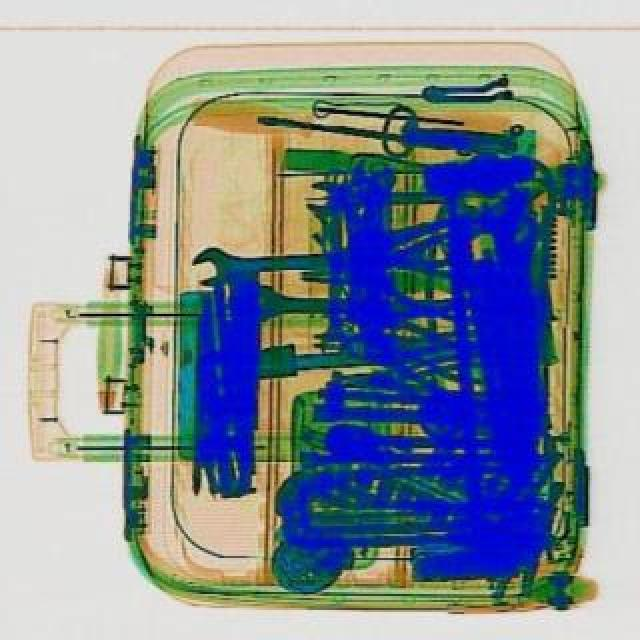scissors: (186, 238, 340, 286), (306, 180, 440, 214)
